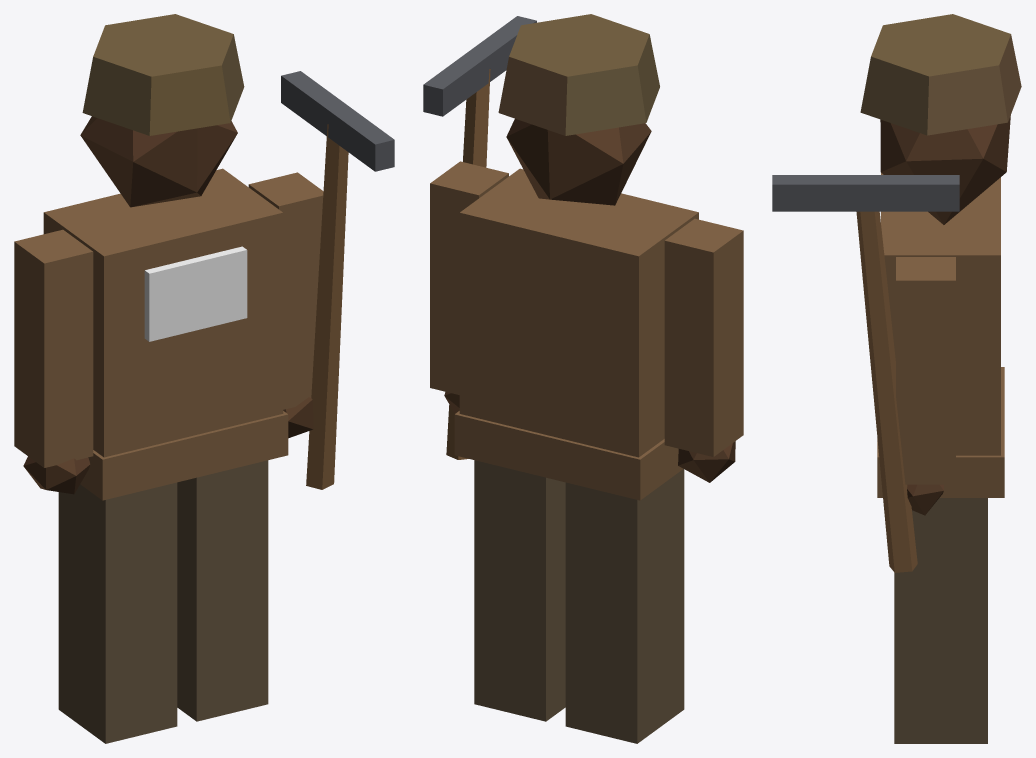
File: Civilian.glb
3 views of the same model, side by side, from view 1: azimuth 30°, elevation 25°; view 2: azimuth 150°, elevation 25°; view 3: azimuth 270°, elevation 25° (orthographic).
Parts seen in each view (by area): view 1: Units_Civilian; view 2: Units_Civilian; view 3: Units_Civilian.
Boxes of the visible parts, x1,y1,x2,y2 form: Units_Civilian: (14, 14, 394, 743); Units_Civilian: (423, 14, 743, 743); Units_Civilian: (772, 14, 1021, 743).
Bounding box in the file's own units: 0.0897 × 0.194 × 0.0665.
